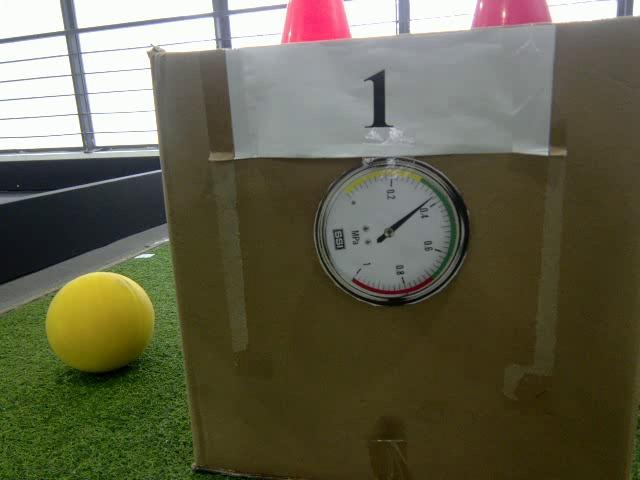1: (313, 160, 471, 310), (362, 67, 393, 130)
orange_barrel: (278, 0, 351, 44)
red_barrel: (464, 0, 554, 30)
yellow_ball: (47, 271, 154, 371)
